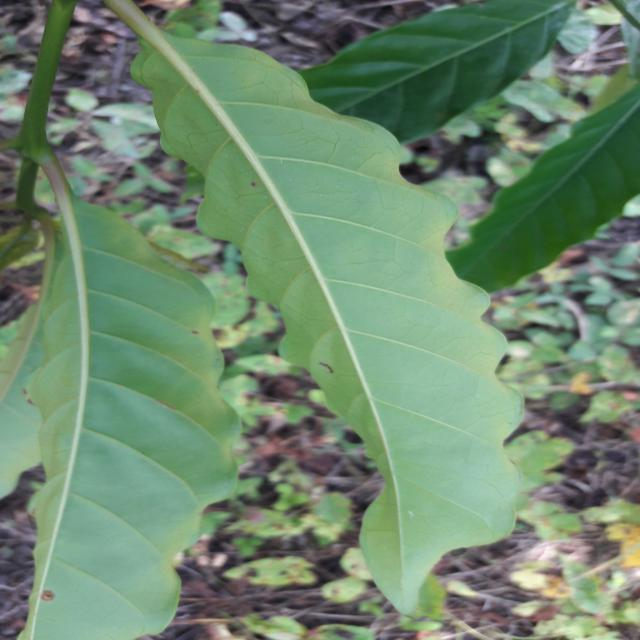Sanas: (108, 0, 524, 634)
